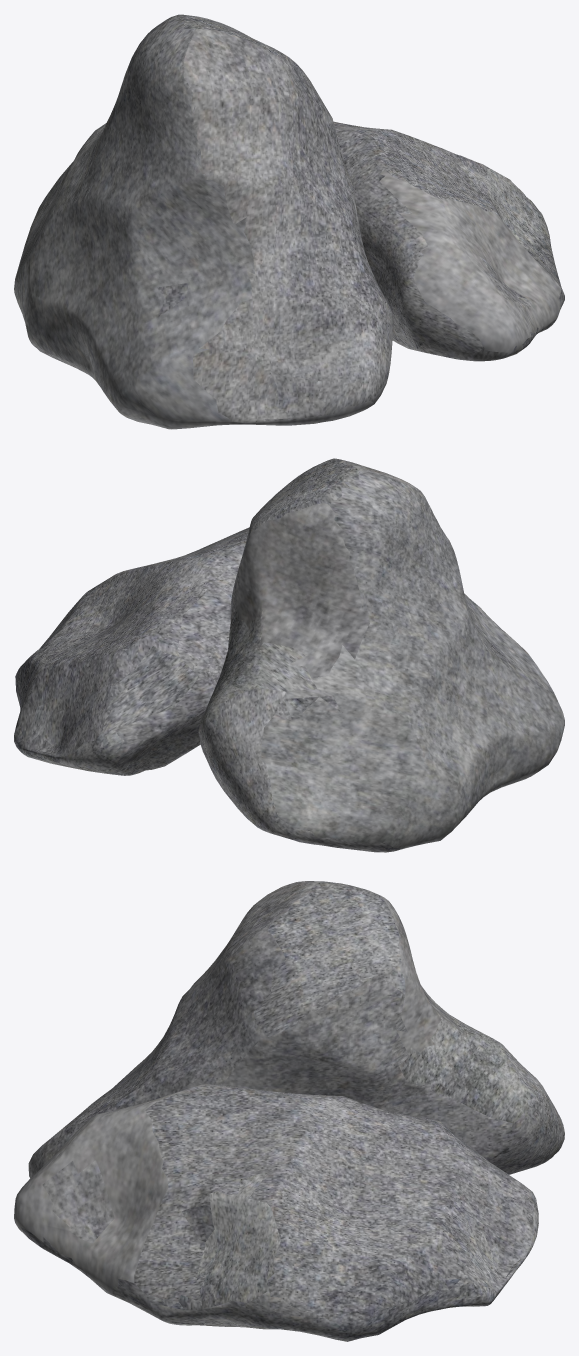
File: pedra.1.obj
The picture shows the model from 3 angles, top to bottom: view 1: azimuth 30°, elevation 25°; view 2: azimuth 150°, elevation 25°; view 3: azimuth 270°, elevation 25°; orthographic projection. The views are drawn at different scales.
Parts seen in each view (by area): view 1: Cube.002; view 2: Cube.002; view 3: Cube.002.
Part boxes in pixels (x1,y1,x2,y2): Cube.002: (14, 14, 564, 429); Cube.002: (14, 458, 564, 852); Cube.002: (14, 881, 564, 1341).
Bounding box in the file's own units: 5.02 × 3.37 × 5.
